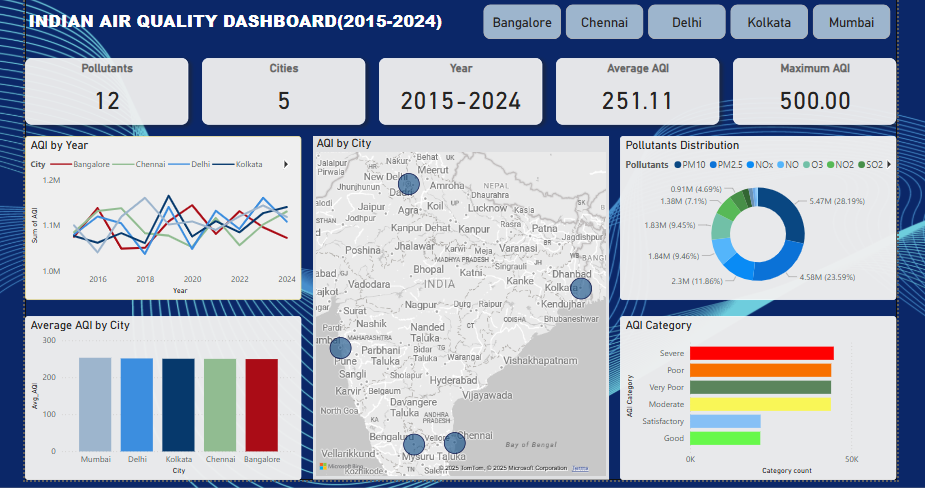

What the dashboard file says about the page in this screenshot:
{"tool":"powerbi","page":{"name":"Page 1","canvas":[1280,720],"ordinal":0},"visuals":[{"type":"card","title":"Average AQI","fields":{"Values":["Indian_Air_Quality.Avg_AQI"]},"box":[780.2,99.9,239.5,98.4],"z":0},{"type":"card","title":"Cities","fields":{"Values":["Indian_Air_Quality.Total Cities"]},"box":[260.1,99.9,239.5,98.4],"z":1000},{"type":"card","title":"Maximum AQI","fields":{"Values":["Indian_Air_Quality.max AQI"]},"box":[1040.3,99.9,239.5,98.4],"z":2000},{"type":"lineChart","title":"AQI by Year","fields":{"Category":["Indian_Air_Quality.Datetime.Variation.Date Hierarchy.Year","Indian_Air_Quality.Datetime.Variation.Date Hierarchy.Quarter","Indian_Air_Quality.Datetime.Variation.Date Hierarchy.Month","Indian_Air_Quality.Datetime.Variation.Date Hierarchy.Day"],"Y":["Sum(Indian_Air_Quality.AQI)"],"Series":["Indian_Air_Quality.City"]},"box":[0,214.5,405.6,241],"z":3000},{"type":"barChart","title":"AQI Category ","fields":{"Y":["Indian_Air_Quality.Category count"],"Category":["Indian_Air_Quality.AQI Category"]},"box":[874.3,479,405.6,241],"z":4000},{"type":"columnChart","title":"Average AQI by City","fields":{"Category":["Indian_Air_Quality.City"],"Y":["Indian_Air_Quality.Avg_AQI"]},"box":[0,479,405.6,241],"z":5000},{"type":"map","title":"AQI by City","fields":{"Category":["Indian_Air_Quality.City"],"Size":["Sum(Indian_Air_Quality.AQI)"]},"box":[423.2,214.5,434.9,505.5],"z":6000},{"type":"donutChart","title":"Pollutants Distribution","fields":{"Y":["Sum(Indian_Air_Quality.Value)"],"Category":["Indian_Air_Quality.Pollutants"]},"box":[874.3,214.5,405.6,241],"z":7000},{"type":"card","title":"Pollutants","fields":{"Values":["Indian_Air_Quality.Total Pollutants"]},"box":[0,99.9,239.5,98.4],"z":8000},{"type":"advancedSlicerVisual","fields":{"Values":["Indian_Air_Quality.City"]},"box":[668.6,16.2,611.3,61.7],"z":9000},{"type":"card","title":"Year","fields":{"Values":["Indian_Air_Quality.Year Range"]},"box":[520.2,99.9,239.5,98.4],"z":10000},{"type":"textbox","box":[0,23.5,630.4,76.4],"z":11000}]}

Visuals, with their boxes in screenshot pixels (x1, y1, x2, y2):
"Average AQI" card: {"x1": 561, "y1": 55, "x2": 727, "y2": 123}
"Cities" card: {"x1": 200, "y1": 55, "x2": 366, "y2": 123}
"Maximum AQI" card: {"x1": 742, "y1": 55, "x2": 908, "y2": 123}
"AQI by Year" lineChart: {"x1": 19, "y1": 134, "x2": 301, "y2": 302}
"AQI Category " barChart: {"x1": 626, "y1": 318, "x2": 908, "y2": 486}
"Average AQI by City" columnChart: {"x1": 19, "y1": 318, "x2": 301, "y2": 486}
"AQI by City" map: {"x1": 313, "y1": 134, "x2": 615, "y2": 486}
"Pollutants Distribution" donutChart: {"x1": 626, "y1": 134, "x2": 908, "y2": 302}
"Pollutants" card: {"x1": 19, "y1": 55, "x2": 186, "y2": 123}
advancedSlicerVisual - Indian_Air_Quality.City: {"x1": 484, "y1": 0, "x2": 908, "y2": 40}
"Year" card: {"x1": 380, "y1": 55, "x2": 547, "y2": 123}
textbox: {"x1": 19, "y1": 2, "x2": 457, "y2": 55}
